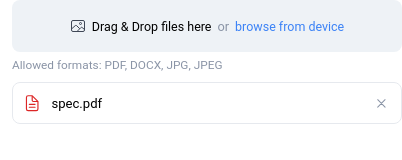
Test: AttachmentsField › removes an attachment
Step 1. Click the button named "Remove spec.pdf" → click(381, 103), box [367,89,395,117]
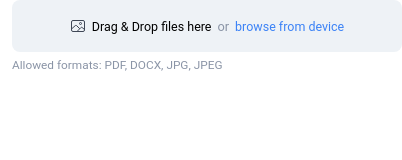
Expected: the button "spec.pdf" is gone
